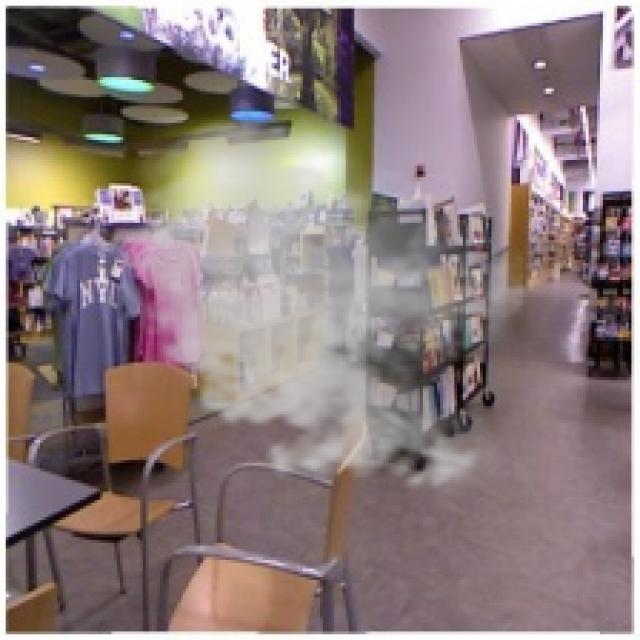Smoke: (106, 111, 528, 503)
